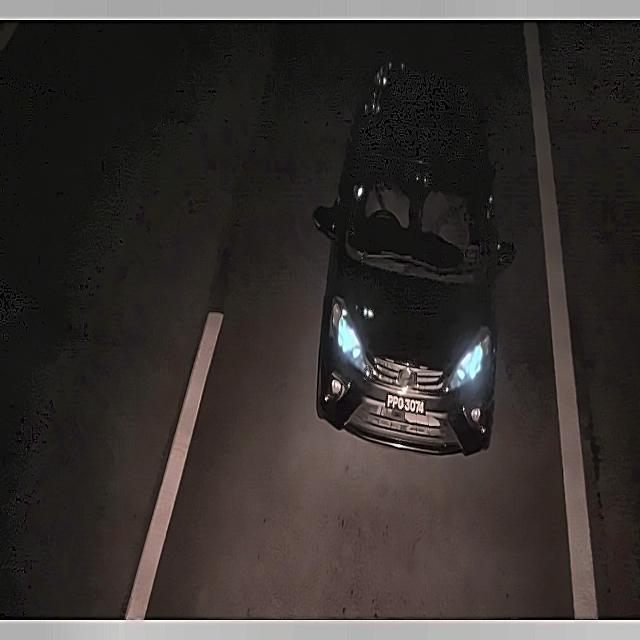car: (385, 388, 438, 425)
